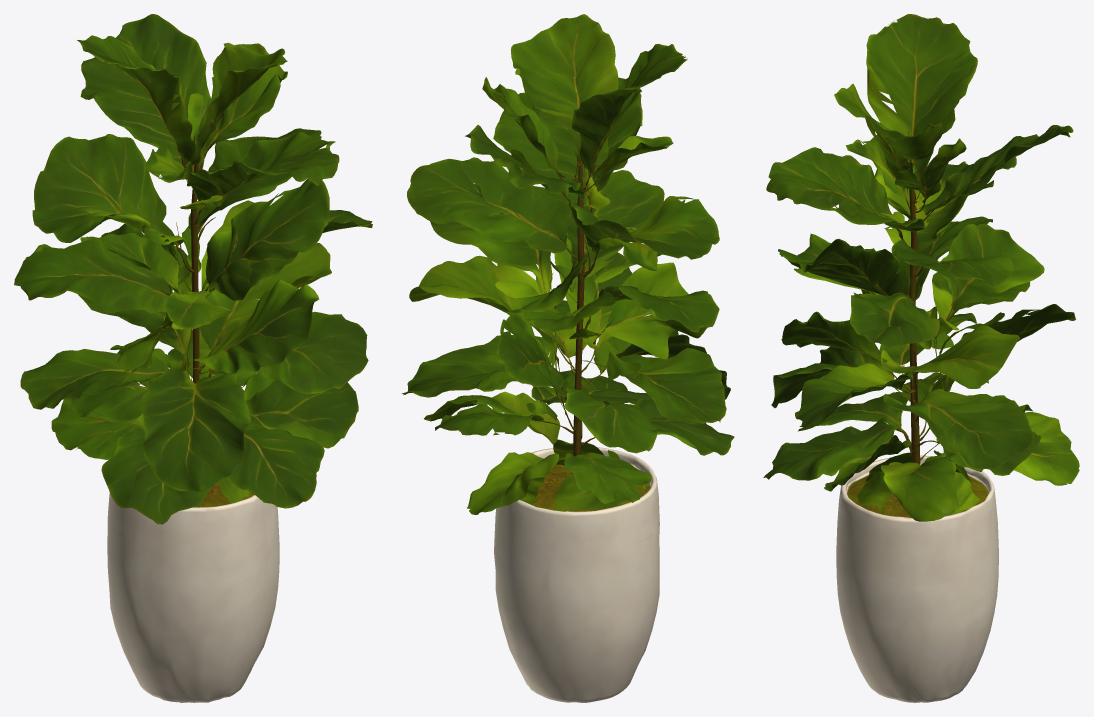
The model's file is desktop.glb.
3 views of the same model, side by side, from view 1: azimuth 30°, elevation 25°; view 2: azimuth 150°, elevation 25°; view 3: azimuth 270°, elevation 25° (orthographic). The views are drawn at different scales.
Parts seen in each view (by area): view 1: plant; view 2: plant; view 3: plant.
Boxes of the visible parts, left/top/right/bottom form: plant: left=14, top=14, right=372, bottom=702; plant: left=402, top=14, right=734, bottom=702; plant: left=763, top=14, right=1079, bottom=702.
Bounding box in the file's own units: 0.5982 × 1.2 × 0.5551.
1 material, 1 textured.
